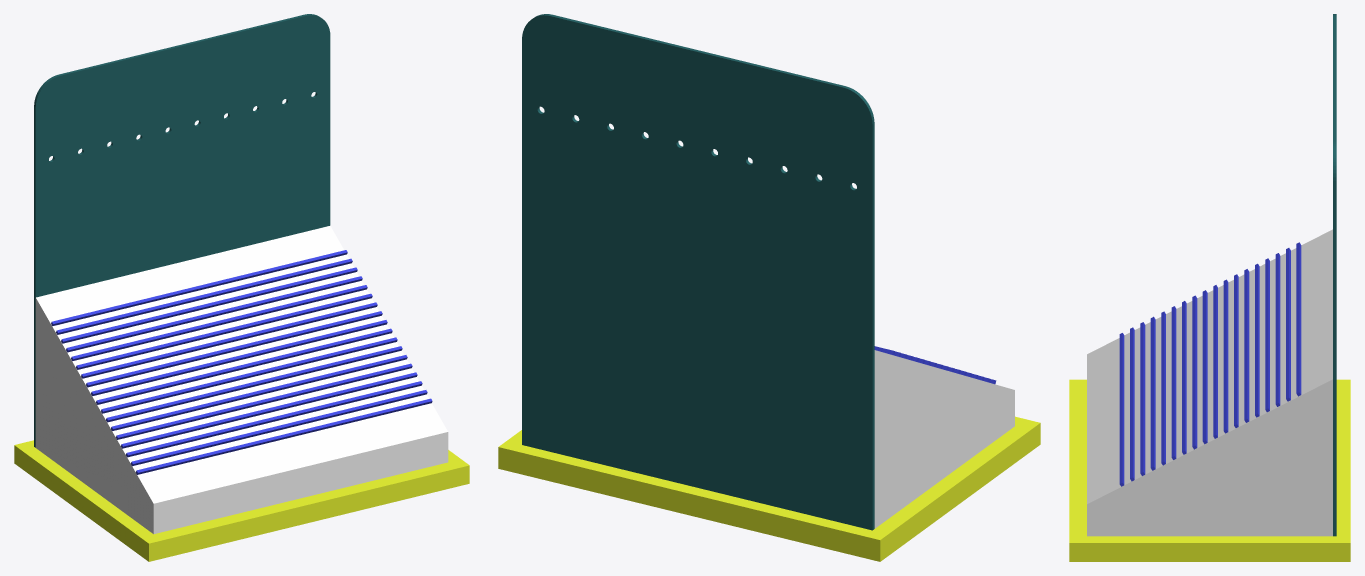
File: Faulamadina model 2.glb
3 renders of one model, left to right at view 1: azimuth 30°, elevation 25°; view 2: azimuth 150°, elevation 25°; view 3: azimuth 270°, elevation 25°, orthographic. The views are drawn at different scales.
Visible parts, largest first — view 1: Curve, Curve.003, Curve.002, Cube; view 2: Curve.003, Cube, Curve; view 3: Curve, Curve.002, Cube, Curve.003.
Boxes of the visible parts, x1,y1,x2,y2 form: Curve: (35, 226, 448, 534); Curve.003: (34, 14, 330, 447); Curve.002: (51, 250, 432, 474); Cube: (14, 440, 469, 561); Curve.003: (522, 14, 874, 530); Cube: (498, 416, 1040, 561); Curve: (874, 350, 1014, 528); Curve: (1087, 229, 1332, 536); Curve.002: (1119, 242, 1301, 486); Cube: (1069, 379, 1350, 561); Curve.003: (1333, 14, 1336, 536).
Size of the model in its own units: 5.5 by 6.3 by 4.
